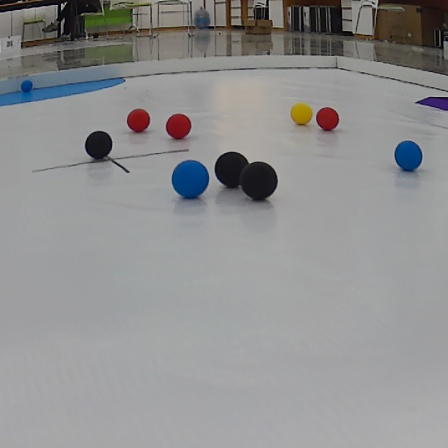black: (216, 149, 250, 192), (244, 161, 278, 201), (82, 133, 115, 159)
blue: (173, 161, 211, 201), (395, 140, 423, 172), (18, 80, 38, 92)
blue_base: (1, 78, 122, 109)
red: (163, 112, 192, 137), (316, 107, 340, 132), (128, 108, 149, 132)
yellow: (290, 102, 314, 126)
